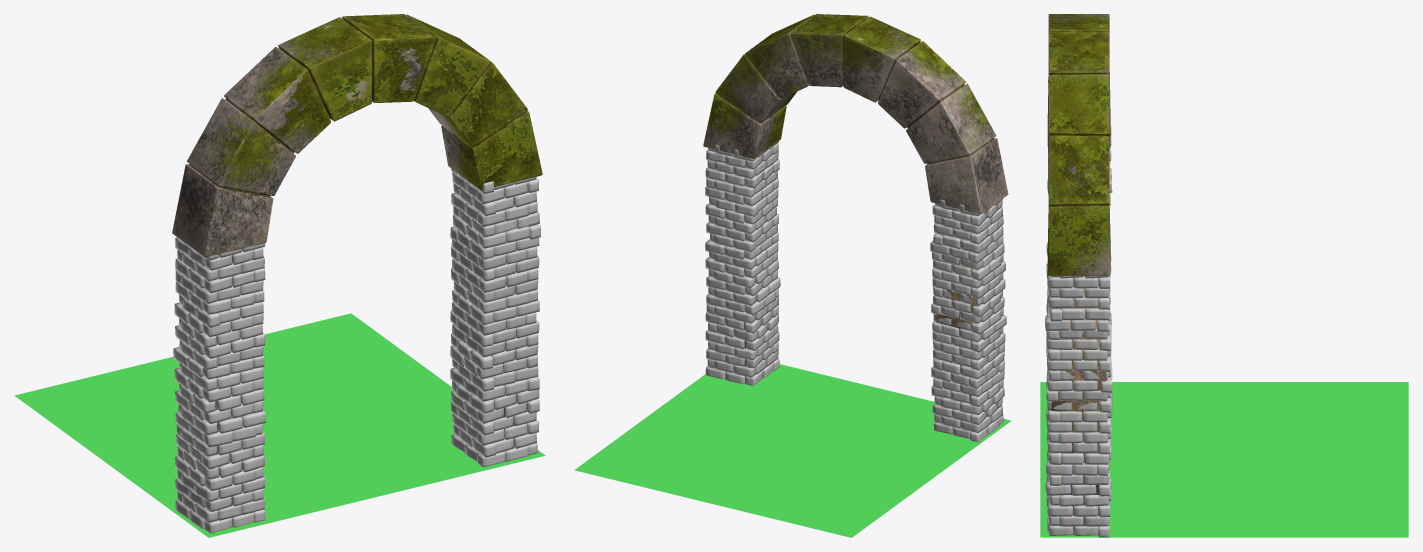
Rendered from RoomGate.fbx.
The picture shows the model from 3 angles, left to right: view 1: azimuth 30°, elevation 25°; view 2: azimuth 150°, elevation 25°; view 3: azimuth 270°, elevation 25°; orthographic projection. The views are drawn at different scales.
Parts seen in each view (by area): view 1: RoomGate; view 2: RoomGate; view 3: RoomGate.
Part boxes in pixels (left/top/right/bottom): RoomGate: left=14, top=14, right=545, bottom=537; RoomGate: left=574, top=14, right=1011, bottom=537; RoomGate: left=1040, top=14, right=1408, bottom=537.
Bounding box in the file's own units: 402 × 516 × 400.
